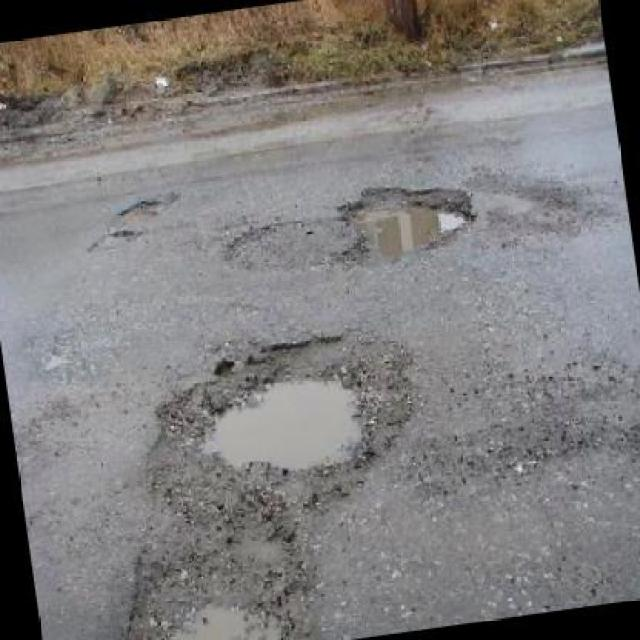pothole: (121, 312, 434, 540), (110, 523, 332, 639), (332, 167, 485, 271), (113, 187, 181, 224), (88, 222, 144, 253)
